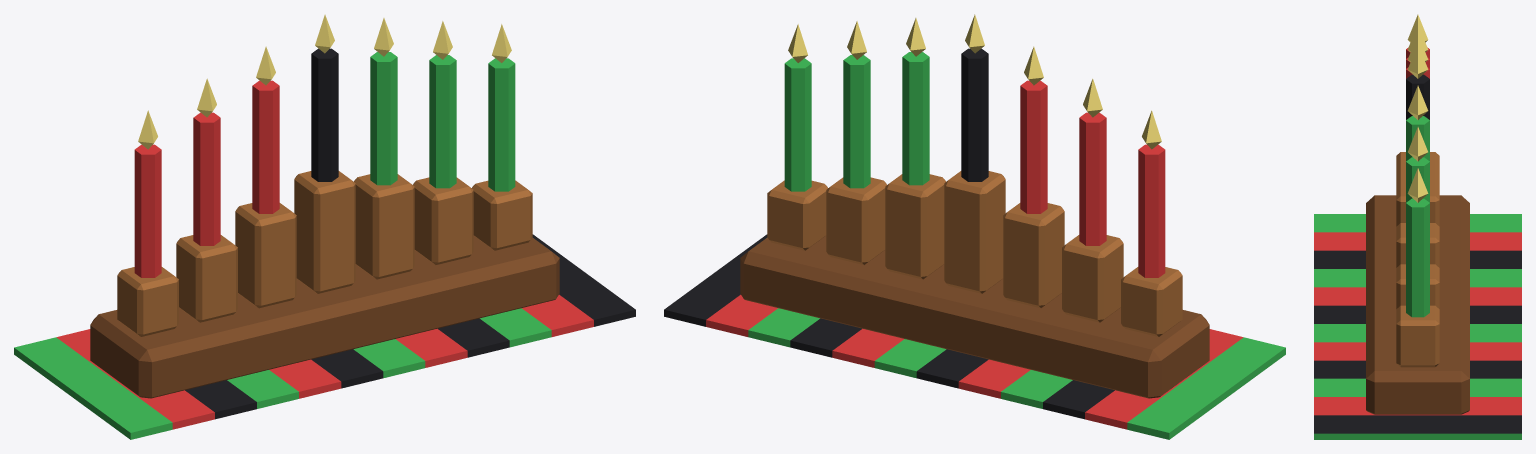
The model's file is Kinara.fbx.
3 renders of one model, left to right at view 1: azimuth 30°, elevation 25°; view 2: azimuth 150°, elevation 25°; view 3: azimuth 270°, elevation 25°, orthographic. The views are drawn at different scales.
Visible parts, largest first — view 1: Kinara; view 2: Kinara; view 3: Kinara.
Part boxes in pixels (<box>): Kinara: <box>14,14,635,439</box>; Kinara: <box>664,14,1285,439</box>; Kinara: <box>1314,14,1521,439</box>.
Size of the model in its own units: 6 by 3.65 by 2.4.
Materials: 1 (1 with a texture image).
